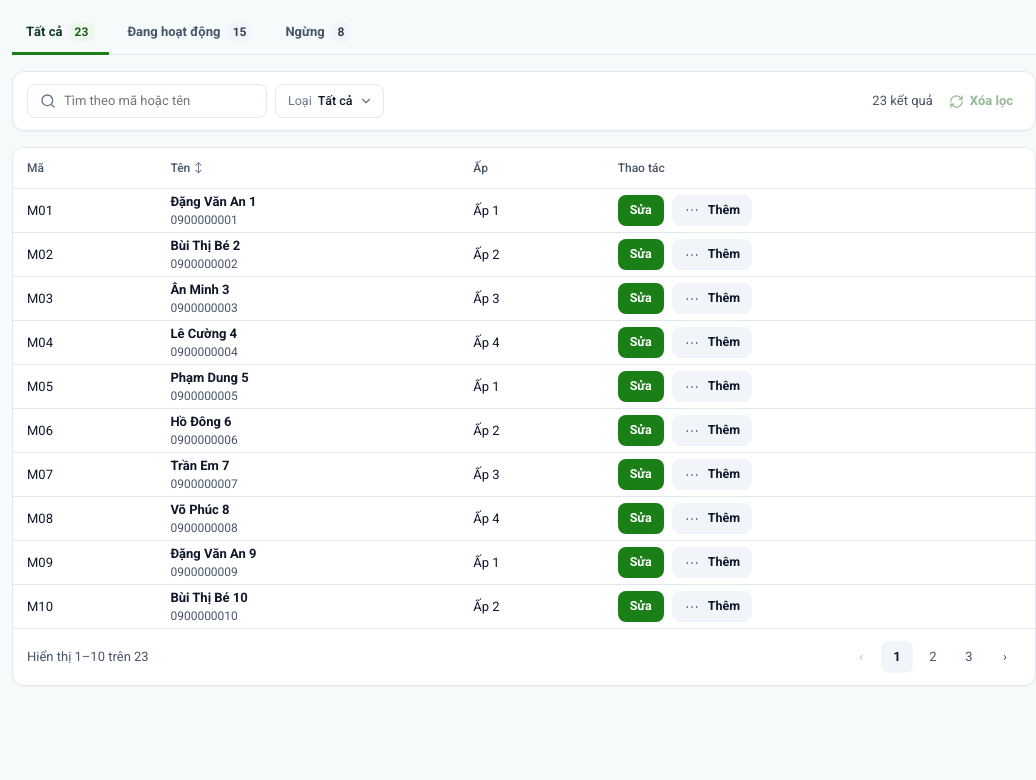
Test: Mẫu danh sách UX-01 (AH-292) › sắp xếp theo cột: aria-sort, đảo chiều, về trang 1
Click the button named "Trang 2" at (933,657), box [917,641,949,673]
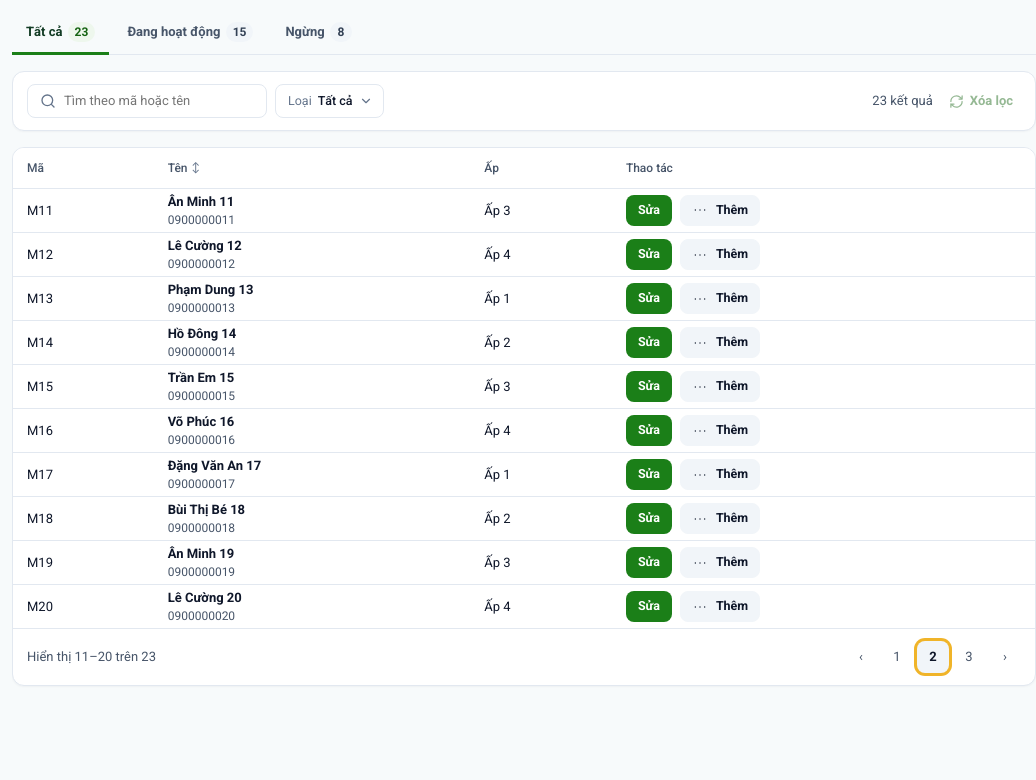
Click the button "Tên ↕" at (184,168), box [168,152,200,184]
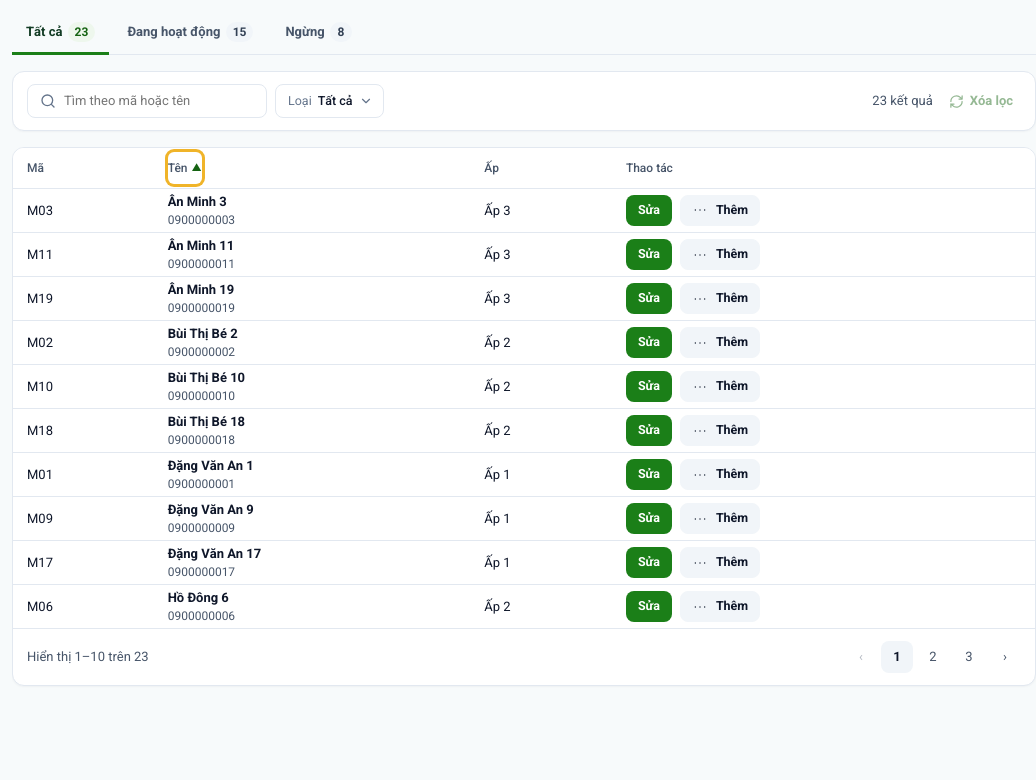
Now the text "Hiển thị 1–10 trên 23" is shown, box [27,647,149,667]
Click the button "Tên ▲" at (185,168), box [168,152,202,184]
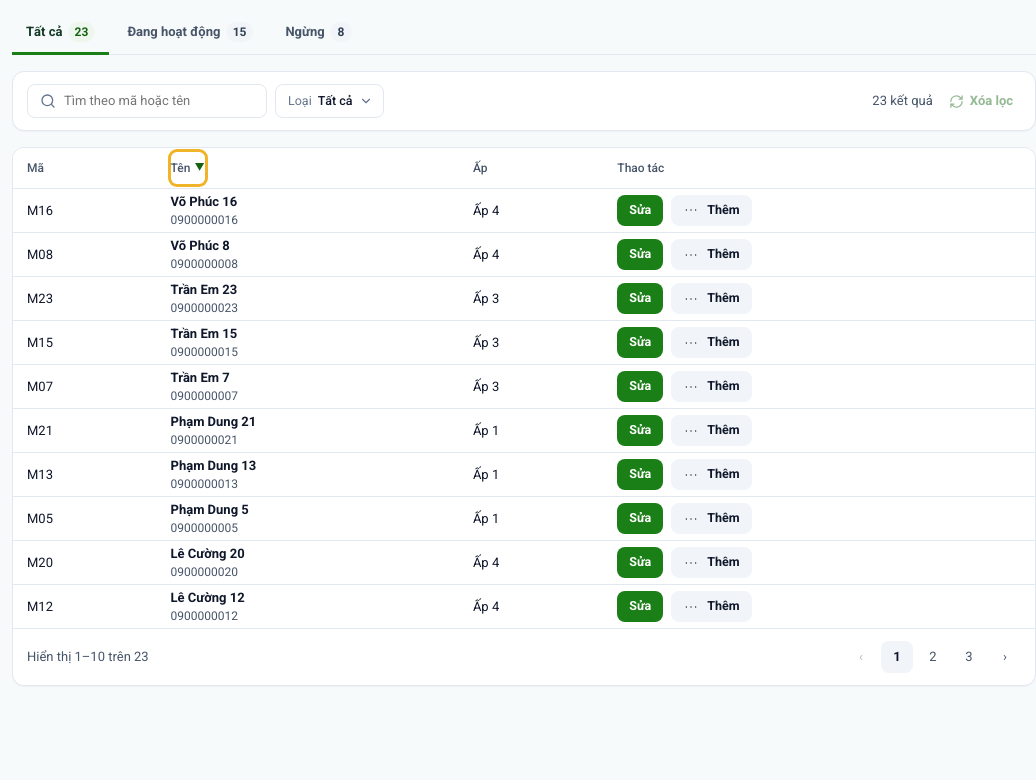
Now the column heading "Tên ▼" has attribute aria-sort="descending", box [156,148,459,188]
